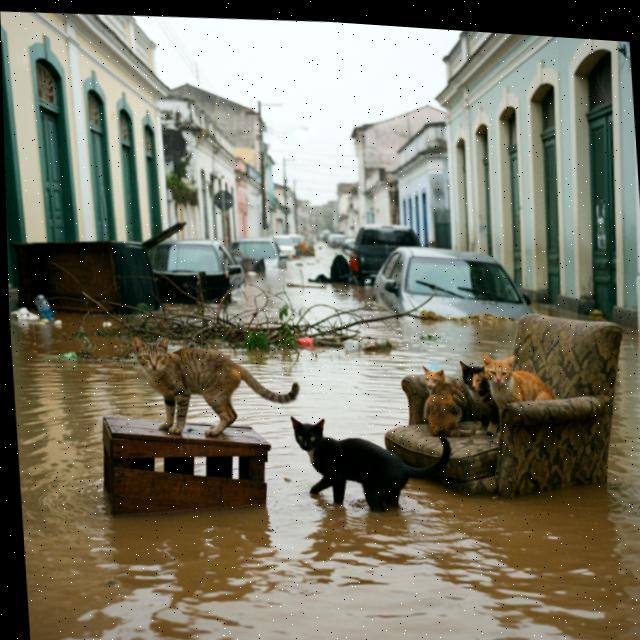cat: (118, 325, 312, 450), (281, 408, 456, 524), (474, 351, 569, 421), (455, 356, 517, 439), (417, 360, 469, 443)
